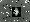person: (13, 8, 22, 18)
